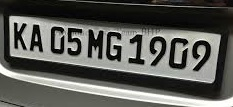numberplate: (5, 11, 221, 90)
